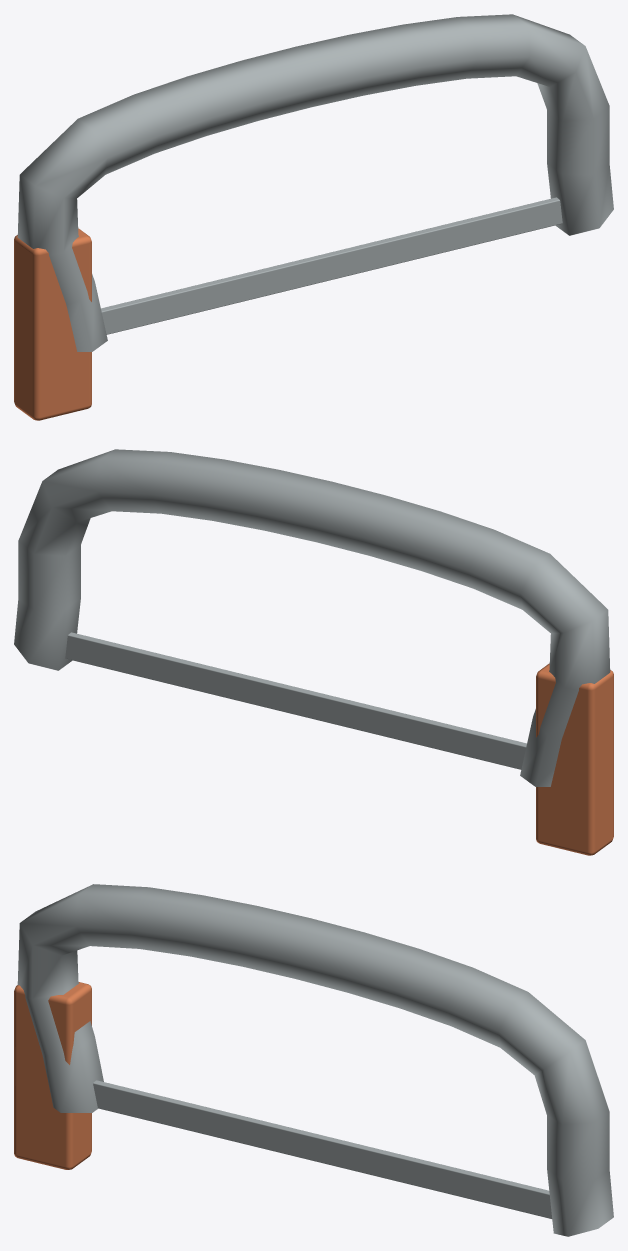
Rendered from salvage-and-repair-workshop-hacksaw-567c7b9d__25465.glb.
The picture shows the model from 3 angles, top to bottom: view 1: azimuth 30°, elevation 25°; view 2: azimuth 150°, elevation 25°; view 3: azimuth 330°, elevation 25°; orthographic projection.
Visible parts, largest first — view 1: hacksaw; view 2: hacksaw; view 3: hacksaw.
Part boxes in pixels (bbox=[...]): hacksaw: bbox=[14, 14, 613, 420]; hacksaw: bbox=[14, 449, 613, 855]; hacksaw: bbox=[14, 884, 613, 1236].
Bounding box in the file's own units: 0.4939 × 0.2387 × 0.046.
